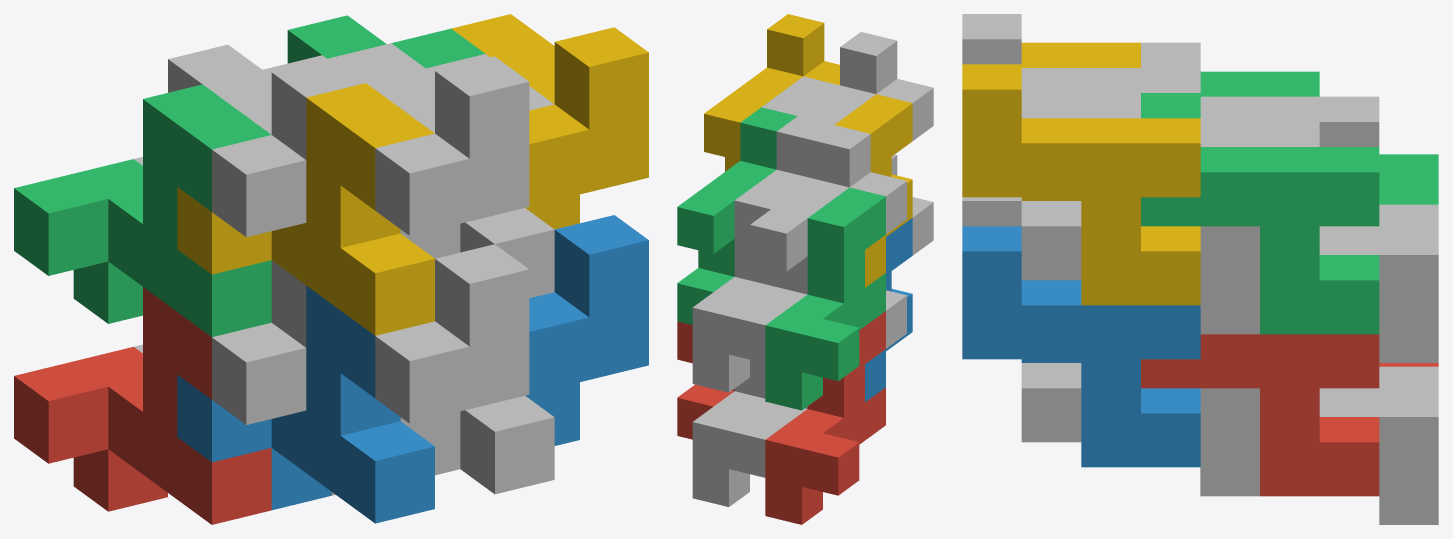
The model's file is tiling.obj.
3 renders of one model, left to right at view 1: azimuth 30°, elevation 25°; view 2: azimuth 150°, elevation 25°; view 3: azimuth 270°, elevation 25°, orthographic. The views are drawn at different scales.
Parts seen in each view (by area): view 1: copy_1_domain_3, copy_1_domain_1, copy_1_domain_4, copy_1_domain_2, copy_2_domain_4, copy_2_domain_8, copy_2_domain_2, copy_2_domain_6, copy_2_domain_3, copy_2_domain_1, copy_1_domain_6, copy_1_domain_8 (+1 smaller); view 2: copy_1_domain_3, copy_1_domain_1, copy_2_domain_3, copy_1_domain_7, copy_2_domain_7, copy_2_domain_4, copy_1_domain_5, copy_2_domain_8, copy_1_domain_4, copy_1_domain_2, copy_2_domain_5, copy_2_domain_1 (+2 smaller); view 3: copy_2_domain_8, copy_2_domain_6, copy_2_domain_7, copy_2_domain_5, copy_1_domain_8, copy_1_domain_7, copy_1_domain_6, copy_1_domain_5, copy_2_domain_3, copy_2_domain_4, copy_1_domain_3, copy_1_domain_4 (+1 smaller).
Part boxes in pixels (bbox=[...]): copy_1_domain_3: bbox=[14, 84, 271, 336]; copy_1_domain_1: bbox=[14, 287, 271, 524]; copy_1_domain_4: bbox=[177, 83, 434, 335]; copy_1_domain_2: bbox=[177, 285, 434, 523]; copy_2_domain_4: bbox=[332, 43, 529, 258]; copy_2_domain_8: bbox=[451, 14, 648, 229]; copy_2_domain_2: bbox=[375, 244, 529, 475]; copy_2_domain_6: bbox=[525, 215, 648, 445]; copy_2_domain_3: bbox=[168, 44, 365, 237]; copy_2_domain_1: bbox=[212, 260, 306, 424]; copy_1_domain_6: bbox=[460, 395, 554, 494]; copy_1_domain_8: bbox=[426, 54, 554, 298]; copy_1_domain_3: bbox=[765, 187, 885, 410]; copy_1_domain_1: bbox=[765, 311, 885, 524]; copy_2_domain_3: bbox=[750, 125, 906, 309]; copy_1_domain_7: bbox=[692, 170, 812, 392]; copy_2_domain_7: bbox=[677, 107, 797, 324]; copy_2_domain_4: bbox=[776, 32, 933, 178]; copy_1_domain_5: bbox=[692, 377, 785, 506]; copy_2_domain_8: bbox=[704, 14, 839, 171]; copy_1_domain_4: bbox=[835, 94, 912, 287]; copy_1_domain_2: bbox=[865, 218, 912, 402]; copy_2_domain_5: bbox=[677, 321, 734, 439]; copy_2_domain_1: bbox=[750, 290, 906, 424]; copy_2_domain_8: bbox=[962, 64, 1200, 305]; copy_2_domain_6: bbox=[962, 226, 1200, 467]; copy_2_domain_7: bbox=[1141, 93, 1379, 334]; copy_2_domain_5: bbox=[1141, 334, 1379, 496]; copy_1_domain_8: bbox=[1021, 93, 1259, 334]; copy_1_domain_7: bbox=[1200, 122, 1438, 362]; copy_1_domain_6: bbox=[1021, 363, 1259, 496]; copy_1_domain_5: bbox=[1319, 366, 1438, 524]; copy_2_domain_3: bbox=[1141, 42, 1379, 229]; copy_2_domain_4: bbox=[962, 14, 1200, 92]; copy_1_domain_3: bbox=[1200, 71, 1438, 204]; copy_1_domain_4: bbox=[1021, 42, 1140, 200].
Size of the model in its own units: 6 by 9 by 8.
